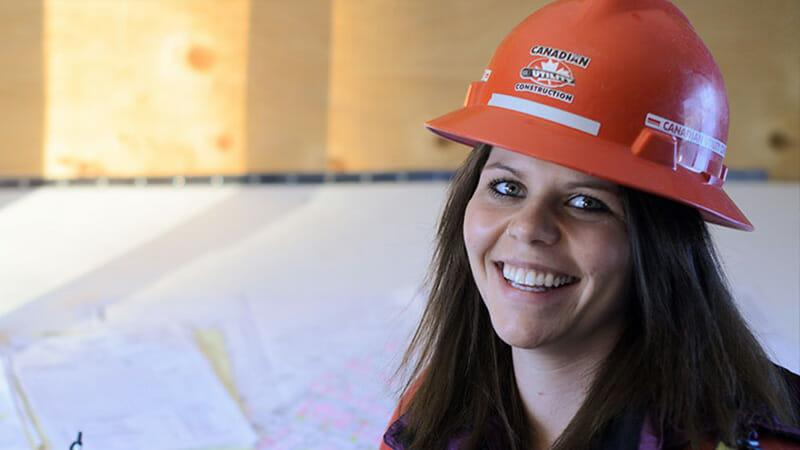helmet: (430, 2, 754, 219)
